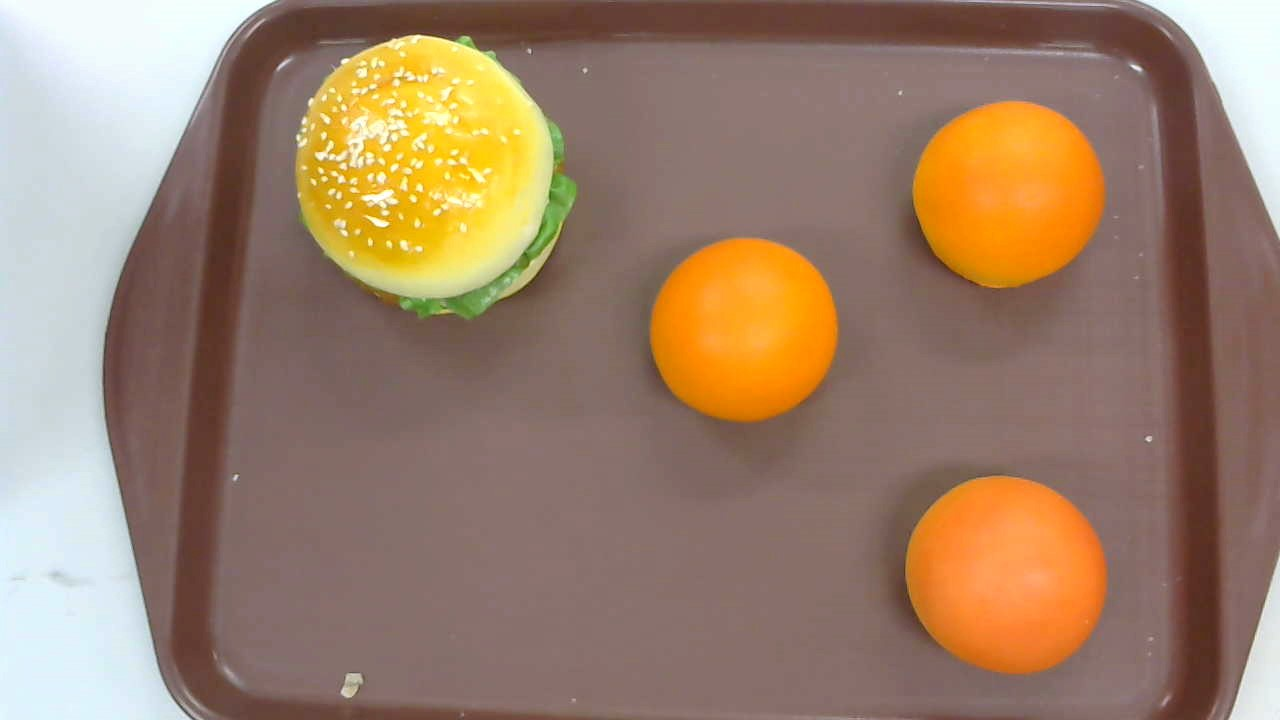bun: (905, 474, 1107, 674), (911, 97, 1106, 289), (648, 234, 838, 420)
hamburger: (294, 35, 578, 322)
